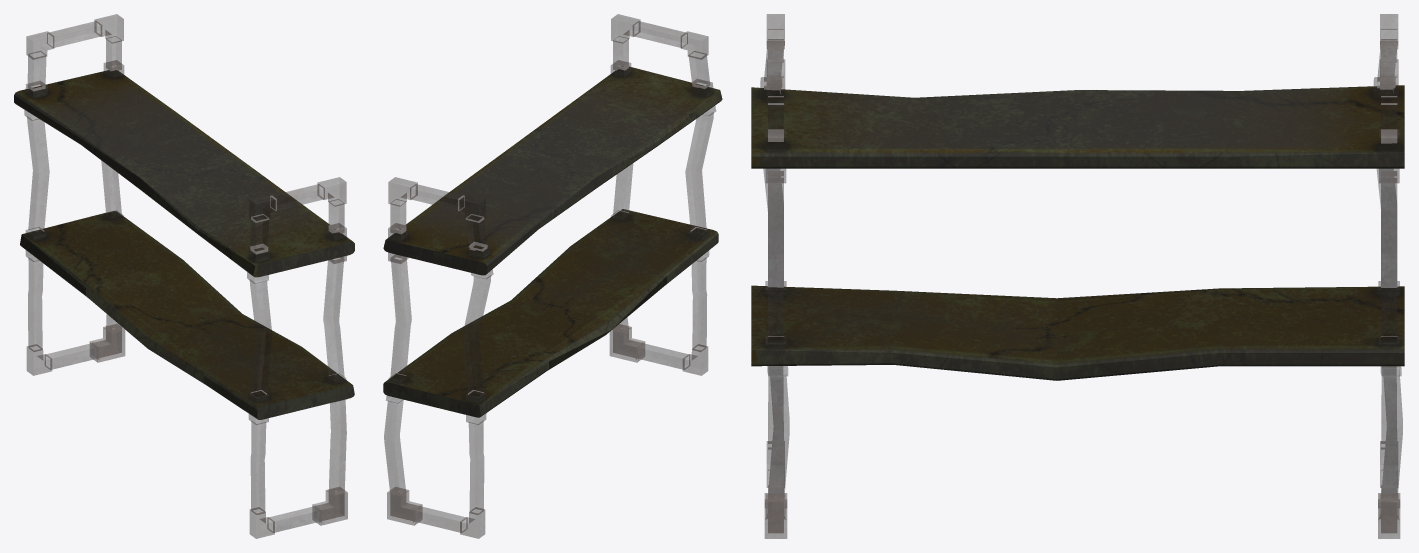
The model's file is Barra_Larga.glb.
3 renders of one model, left to right at view 1: azimuth 30°, elevation 25°; view 2: azimuth 150°, elevation 25°; view 3: azimuth 270°, elevation 25°, orthographic. The views are drawn at different scales.
Visible parts, largest first — view 1: Cube, Cube.001; view 2: Cube, Cube.001; view 3: Cube, Cube.001.
Boxes of the visible parts, x1,y1,x2,y2 form: Cube: (14, 70, 354, 419); Cube.001: (24, 14, 347, 538); Cube: (383, 66, 722, 417); Cube.001: (384, 14, 715, 538); Cube: (751, 85, 1404, 380); Cube.001: (760, 14, 1402, 538).
Bounding box in the file's own units: 0.7821 × 2.43 × 3.1.
2 materials, 2 textured.
